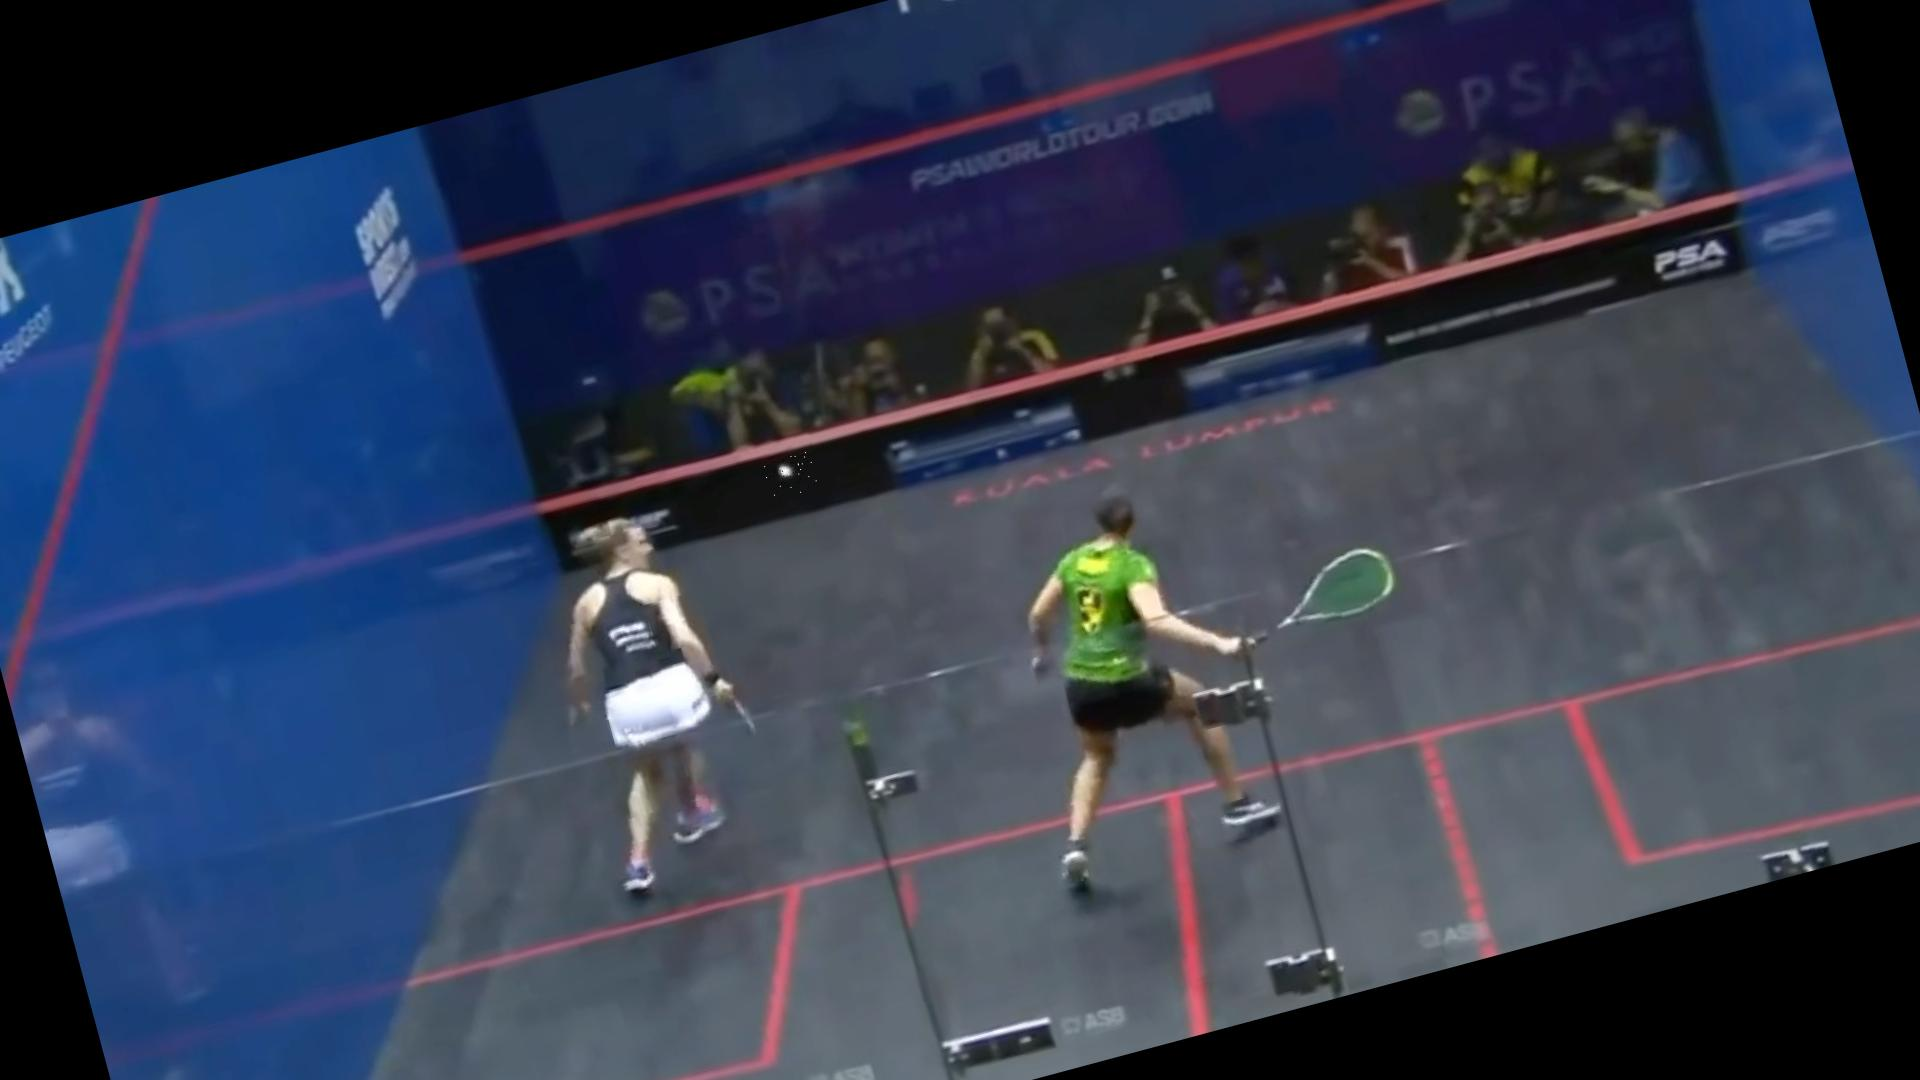Squash-Ball: (762, 450, 820, 501)
